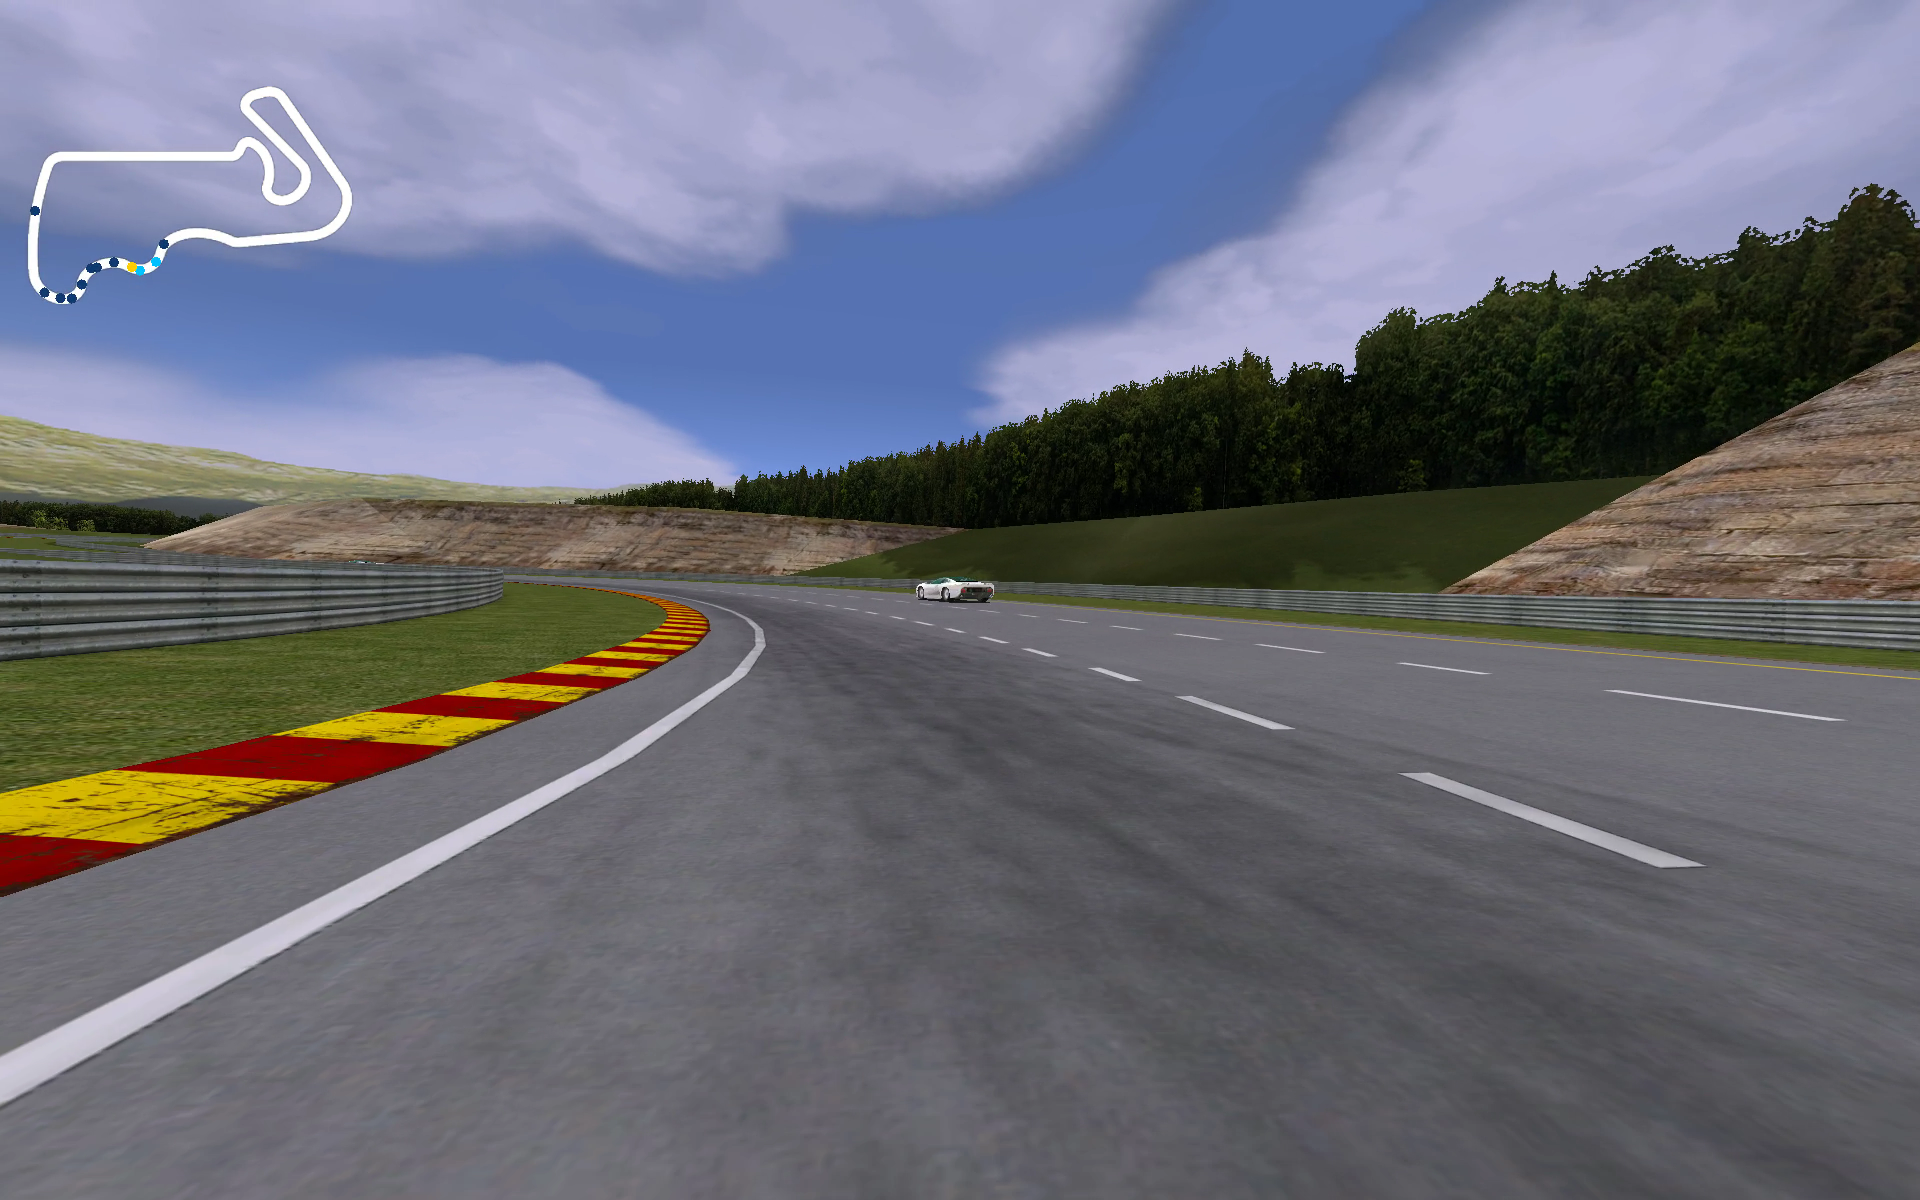car: (912, 576, 1004, 606)
